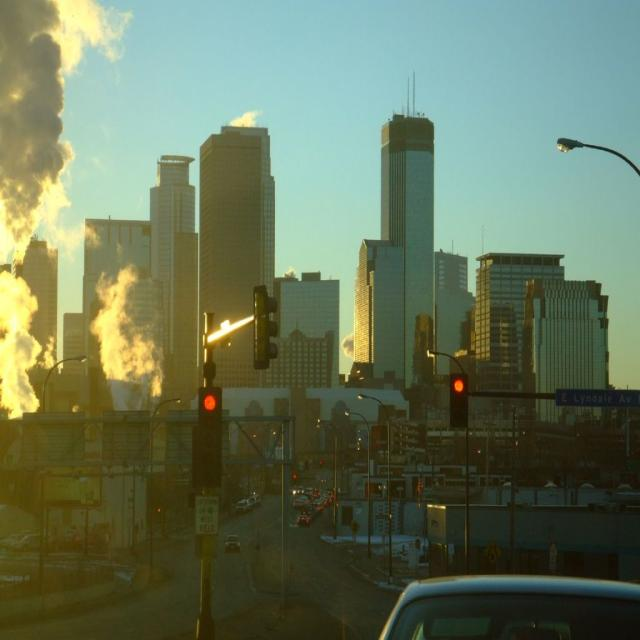car: (220, 529, 241, 552)
